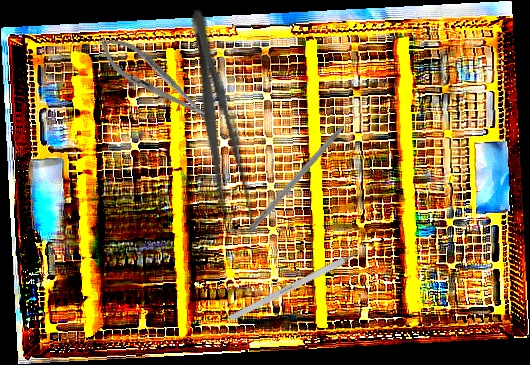Chopper: (247, 109, 367, 238)
Dressing Forceps: (178, 6, 261, 234)
Hook Surgical: (228, 243, 373, 322)
Needle Holder: (91, 27, 220, 134)
